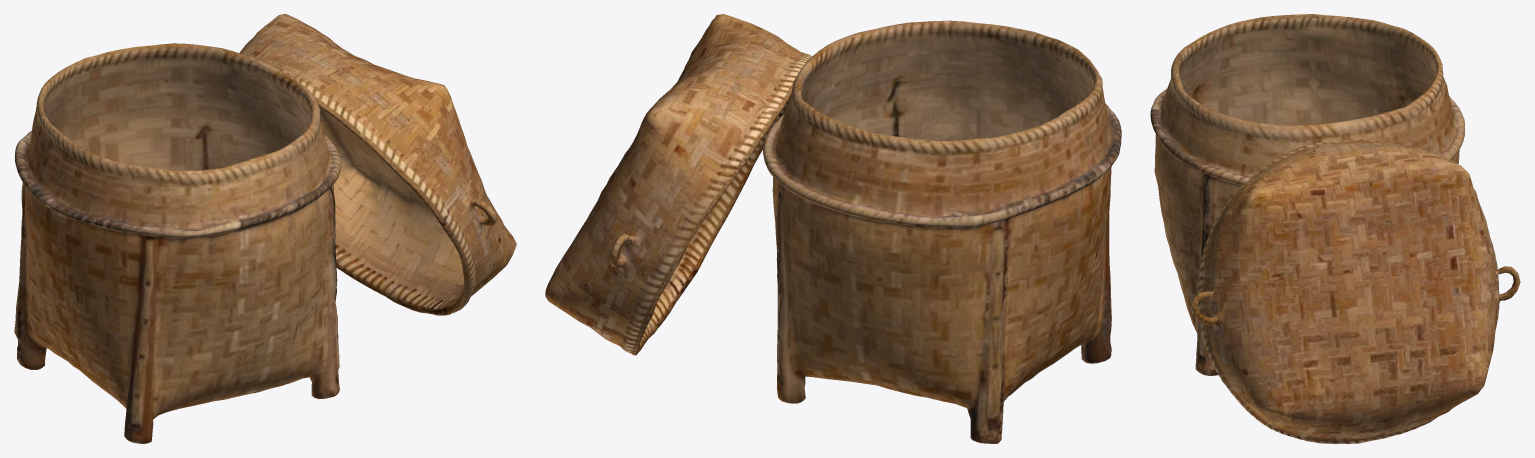
Rendered from wicker_basket_02.glb.
3 views of the same model, side by side, from view 1: azimuth 30°, elevation 25°; view 2: azimuth 150°, elevation 25°; view 3: azimuth 270°, elevation 25° (orthographic). The views are drawn at different scales.
Parts seen in each view (by area): view 1: wicker_basket_02_base; view 2: wicker_basket_02_base; view 3: wicker_basket_02_base.
Part boxes in pixels (left/top/right/bottom): wicker_basket_02_base: left=14, top=14, right=516, bottom=443; wicker_basket_02_base: left=545, top=14, right=1121, bottom=443; wicker_basket_02_base: left=1150, top=14, right=1520, bottom=443.
Size of the model in its own units: 0.3469 by 0.2005 by 0.2545.
1 material, 1 textured.
